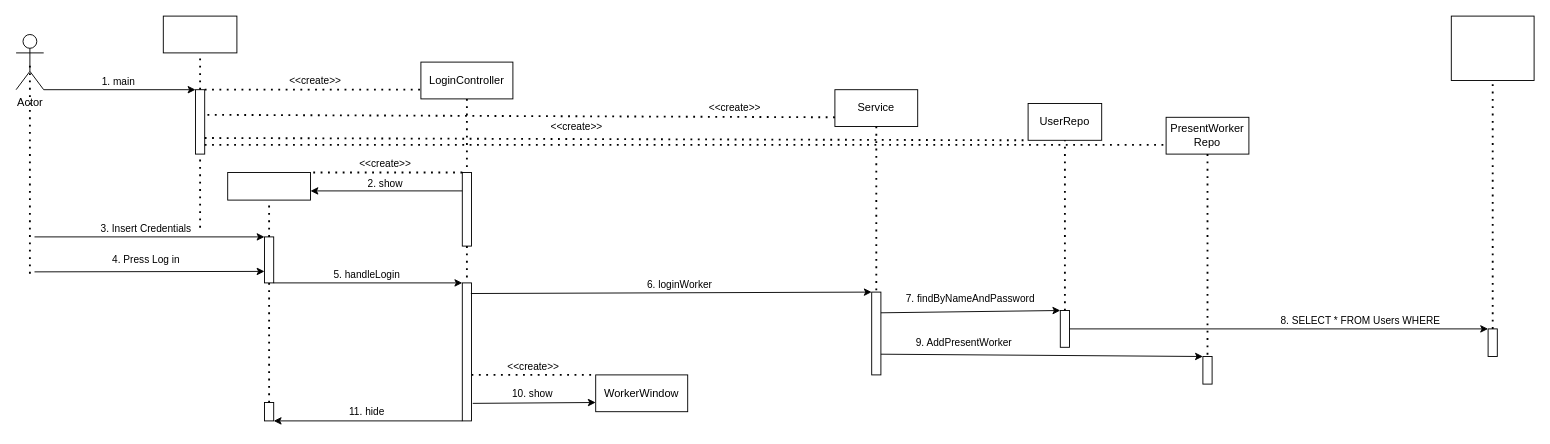
Some shapes in this 1550 by 444 pixel diagram are drawn without their labels. Each missing label, with the box of its shape:
<<Boundary>> Main: (162, 15, 237, 53)
Database: (1450, 15, 1534, 80)
LoginWindow: (227, 172, 310, 200)
